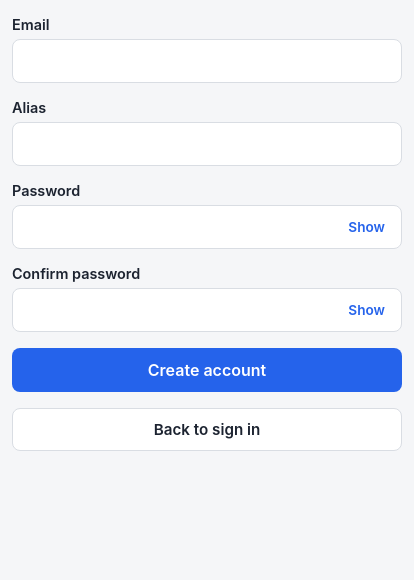
Test: RegistrationForm › shows the generic non-enumerating message for a duplicate email
The width and height of the screenshot is (414, 580).
Step 1. Type "ana@example.com" into the field labelled "Email" → (207, 61), box [12, 39, 402, 83]
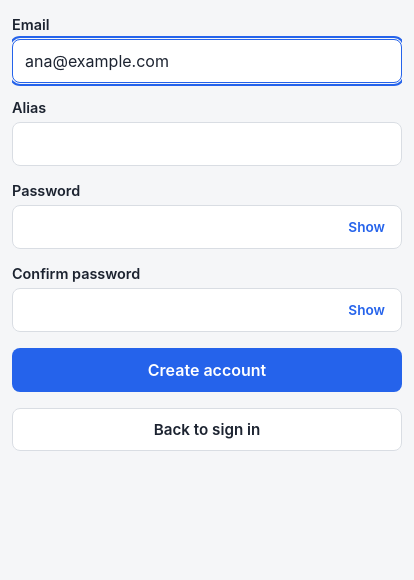
Step 2. Type "Ana" into the field labelled "Alias" → (207, 144), box [12, 122, 402, 166]
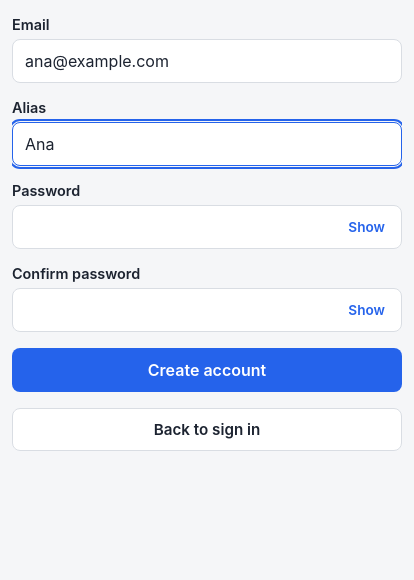
Step 3. Type "correct-horse-battery-staple" into the password field labelled "Password" → (207, 227), box [12, 205, 402, 249]
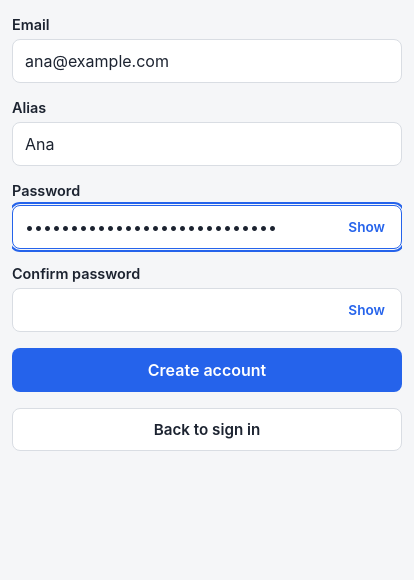
Step 4. Type "correct-horse-battery-staple" into the password field labelled "Confirm password" → (207, 310), box [12, 288, 402, 332]
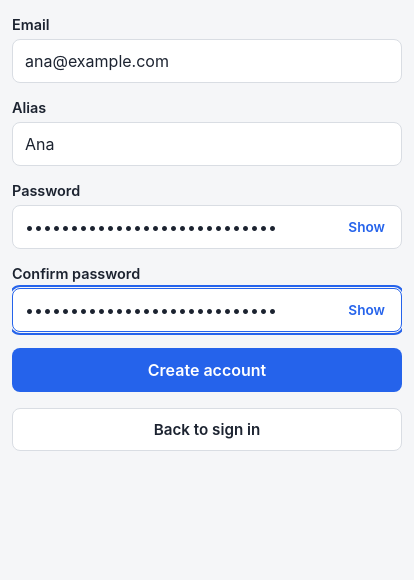
Step 5. Click the button "Create account" → (207, 370), box [12, 348, 402, 392]
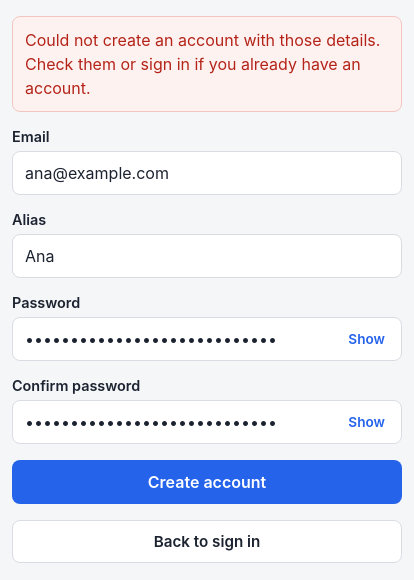
Now the text "Could not create an account with those details. Check them or sign in if you already have an account." is shown, box [25, 30, 380, 98]
